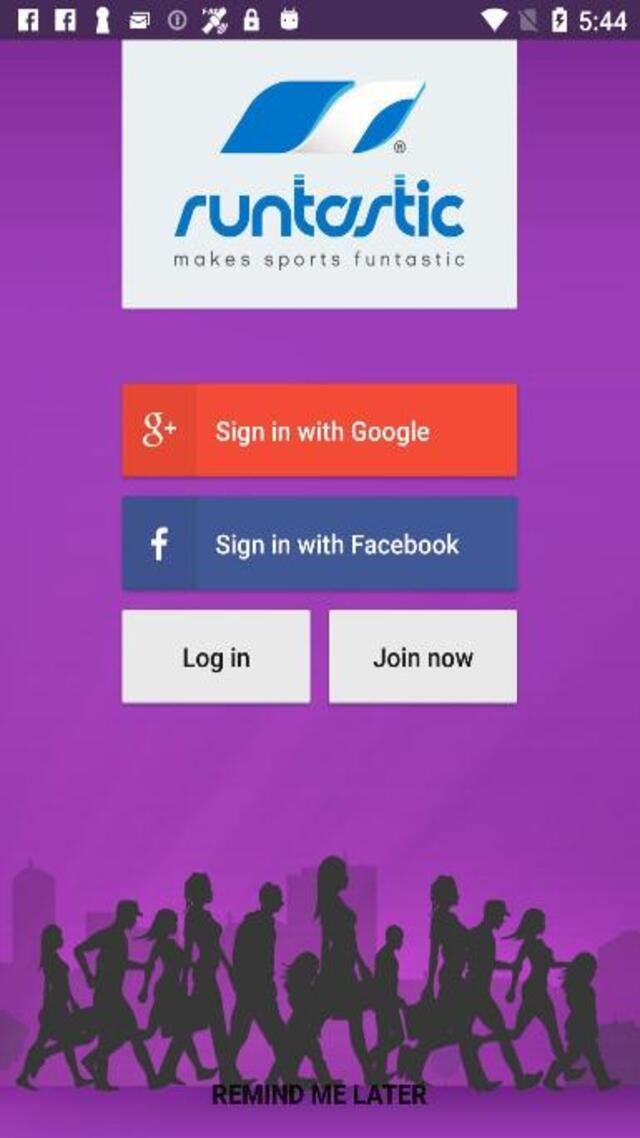Icon: (138, 406, 178, 450), (143, 523, 172, 565)
Image: (0, 847, 638, 1137), (122, 41, 516, 308)
Text: (215, 415, 433, 448), (216, 531, 464, 559), (212, 1083, 426, 1104), (369, 645, 482, 671), (175, 640, 256, 676)
TextButton: (121, 384, 517, 478), (121, 496, 517, 588), (330, 609, 518, 703), (122, 610, 310, 702)
